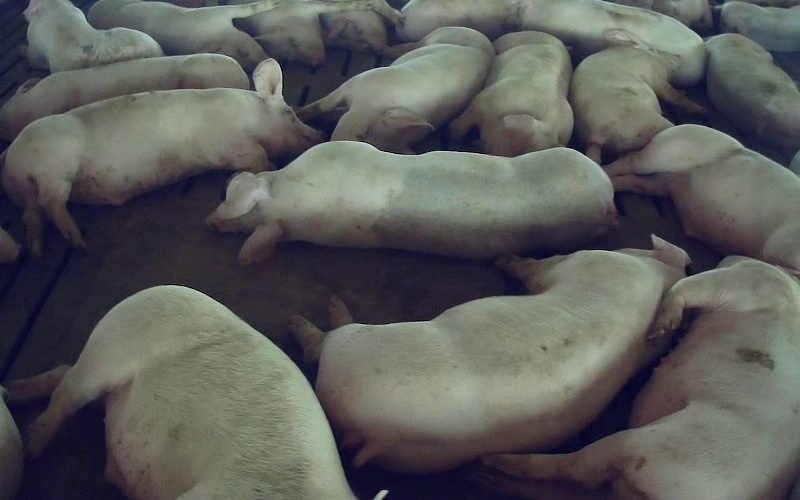pig: (290, 238, 688, 471), (477, 257, 799, 499), (7, 286, 353, 499), (2, 59, 319, 254), (207, 141, 616, 263), (605, 125, 799, 275), (297, 27, 494, 153), (0, 53, 248, 140), (569, 30, 704, 163), (521, 0, 706, 86), (448, 31, 573, 156), (88, 0, 275, 72), (706, 33, 799, 150), (24, 0, 163, 72), (396, 0, 521, 41), (720, 2, 799, 51)
